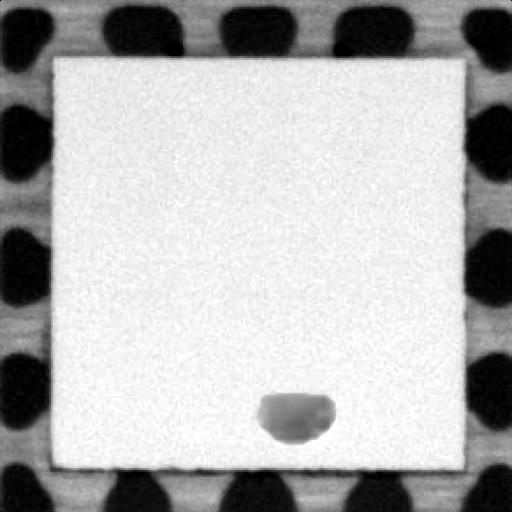DIE_INK: (250, 382, 334, 442)
